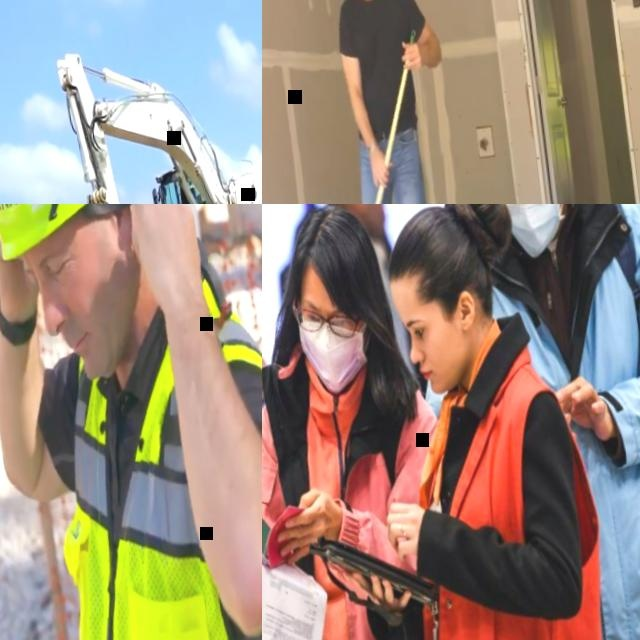Hardhat: (0, 204, 155, 256)
Mask: (296, 315, 372, 396), (482, 204, 577, 266)
NO-Hardhat: (376, 204, 494, 292), (291, 204, 376, 286)
NO-Mask: (25, 204, 152, 387), (418, 345, 468, 394), (361, 208, 391, 237)
NO-Safety Vest: (479, 204, 640, 640), (392, 362, 600, 640), (264, 377, 447, 640), (341, 0, 421, 143)
Person: (304, 204, 615, 640), (0, 204, 262, 640), (262, 204, 467, 640), (458, 204, 640, 640), (300, 0, 479, 204), (319, 204, 392, 258), (173, 186, 201, 204)
Safety Vest: (29, 258, 262, 640)
machinery: (49, 26, 262, 204)
